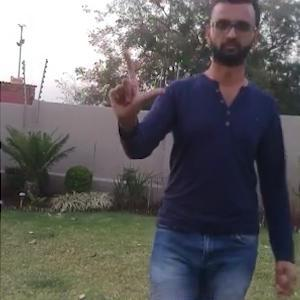land_hand: (102, 43, 166, 117)
